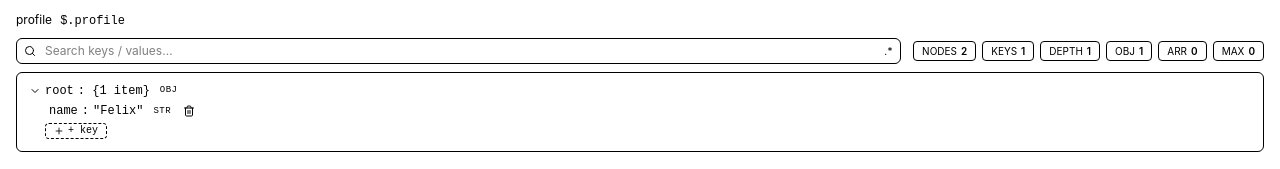
Scenario: DocumentTreePanel › AC-344-B-02: clicking `+ key` reveals key + value inputs, key focused
Click the button with test id "tree-add-key-__root" at (76, 131), box [45, 123, 107, 139]
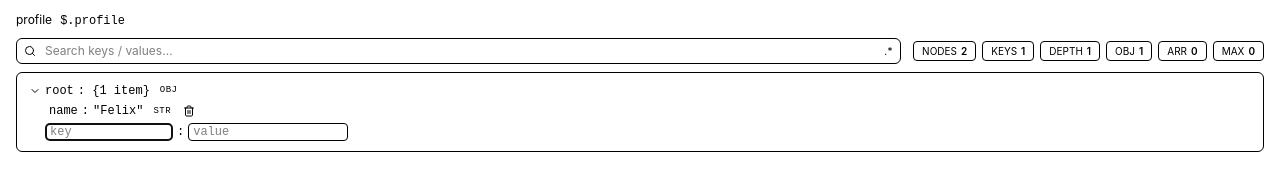
Now the field with test id "tree-add-key-input-__root" is shown, box [45, 123, 173, 141]
Now the field with test id "tree-add-value-input-__root" is shown, box [188, 123, 348, 141]
